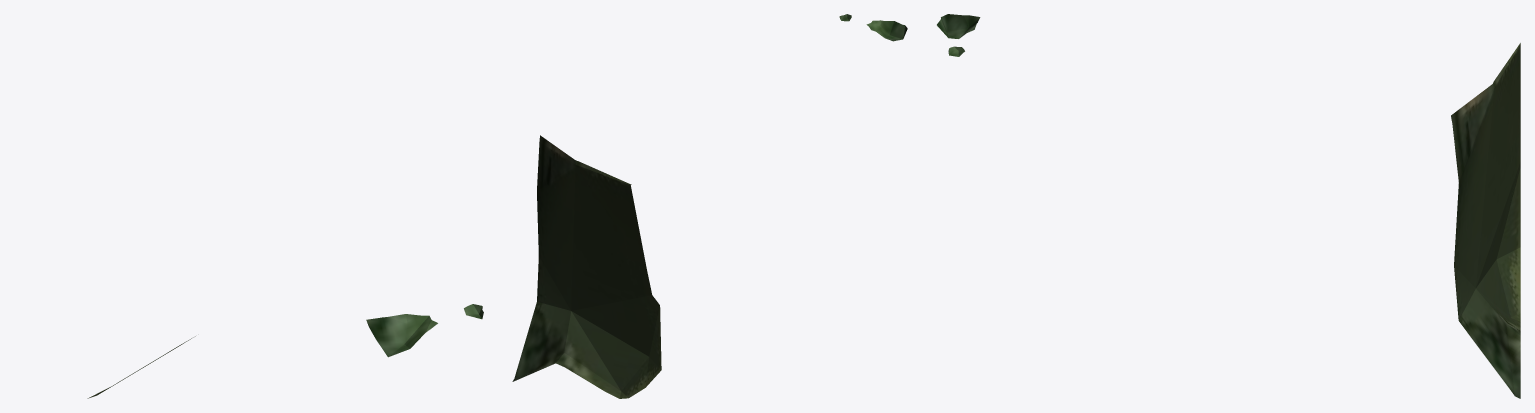
The picture shows the model from 3 angles, left to right: view 1: azimuth 30°, elevation 25°; view 2: azimuth 150°, elevation 25°; view 3: azimuth 270°, elevation 25°; orthographic projection. The views are drawn at different scales.
Bounding box in the file's own units: 2.13 × 2.77 × 5.17.
Materials: 1 (1 with a texture image).
